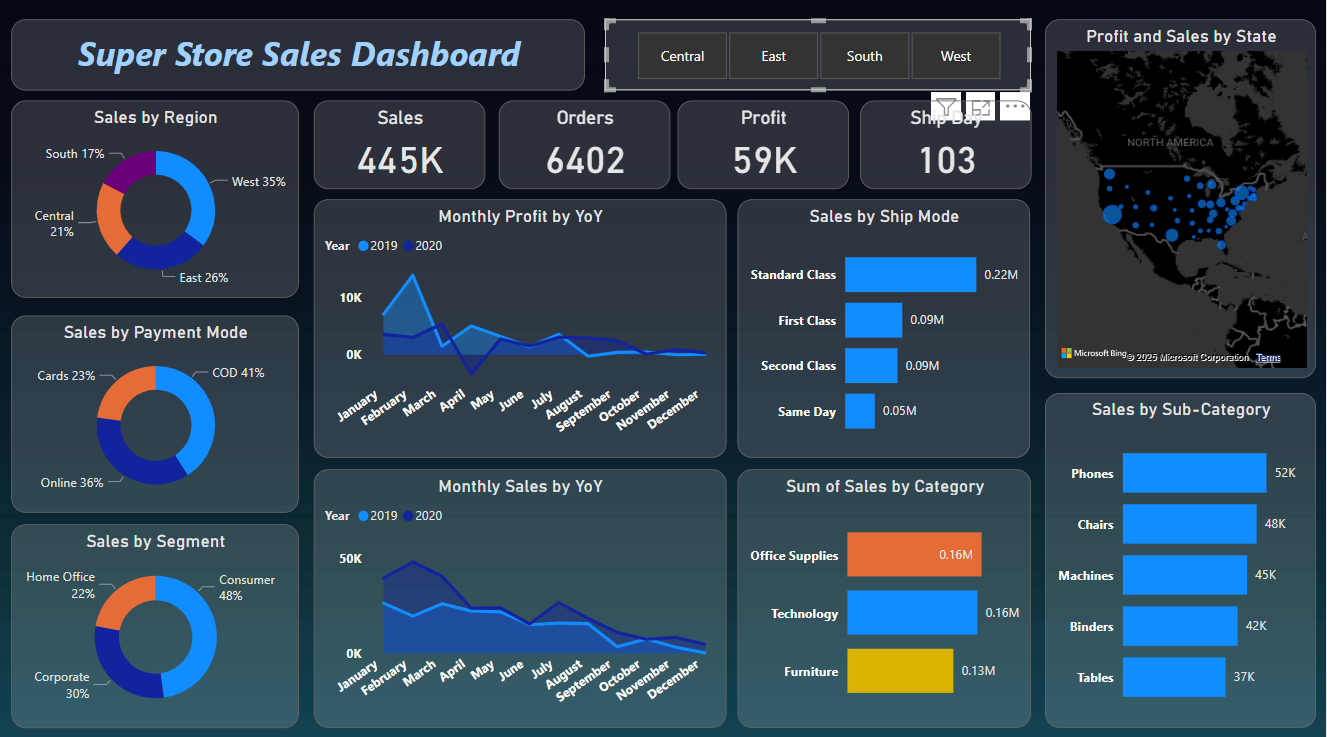

This screenshot's page, from the dashboard's own definition file:
{"tool":"powerbi","page":{"name":"Dashboard","canvas":[1280,720],"ordinal":0},"visuals":[{"type":"clusteredBarChart","fields":{"Category":["SuperStore_Sales_Dataset.Category"],"Y":["Sum(SuperStore_Sales_Dataset.Sales)"]},"box":[711.8,454.8,283.5,249.7],"z":0},{"type":"clusteredBarChart","title":"Sales by Sub-Category","fields":{"Category":["SuperStore_Sales_Dataset.Sub-Category"],"Y":["Sum(SuperStore_Sales_Dataset.Sales)"]},"box":[1008.6,381.2,261.8,323.3],"z":1000},{"type":"clusteredBarChart","title":"Sales by Ship Mode","fields":{"Y":["Sum(SuperStore_Sales_Dataset.Sales)"],"Category":["SuperStore_Sales_Dataset.Ship Mode"]},"box":[711.8,194.2,282.3,249.7],"z":2000},{"type":"areaChart","title":"Monthly Sales by YoY","fields":{"Y":["Sum(SuperStore_Sales_Dataset.Sales)"],"Category":["SuperStore_Sales_Dataset.Order Date.Variation.Date Hierarchy.Month","SuperStore_Sales_Dataset.Order Date.Variation.Date Hierarchy.Day"],"Series":["SuperStore_Sales_Dataset.Order Date.Variation.Date Hierarchy.Year"]},"box":[302.8,454.8,398.1,249.7],"z":3000},{"type":"areaChart","title":"Monthly Profit by YoY","fields":{"Category":["SuperStore_Sales_Dataset.Order Date.Variation.Date Hierarchy.Month","SuperStore_Sales_Dataset.Order Date.Variation.Date Hierarchy.Day"],"Series":["SuperStore_Sales_Dataset.Order Date.Variation.Date Hierarchy.Year"],"Y":["Sum(SuperStore_Sales_Dataset.Profit)"]},"box":[302.8,194.2,398.1,249.7],"z":4000},{"type":"map","title":"Profit and Sales by State","fields":{"Category":["SuperStore_Sales_Dataset.State"],"Size":["Sum(SuperStore_Sales_Dataset.Sales)"]},"box":[1008.6,20.5,261.8,346.2],"z":5000},{"type":"donutChart","title":"Sales by Segment","fields":{"Category":["SuperStore_Sales_Dataset.Segment"],"Y":["Sum(SuperStore_Sales_Dataset.Sales)"]},"box":[10.9,507.9,277.5,196.6],"z":6000},{"type":"donutChart","title":"Sales by Payment Mode","fields":{"Y":["Sum(SuperStore_Sales_Dataset.Sales)"],"Category":["SuperStore_Sales_Dataset.Payment Mode"]},"box":[10.9,306.4,277.5,190.6],"z":7000},{"type":"donutChart","title":"Sales by Region","fields":{"Y":["Sum(SuperStore_Sales_Dataset.Sales)"],"Category":["SuperStore_Sales_Dataset.Region"]},"box":[10.9,98.9,277.5,190.6],"z":8000},{"type":"slicer","fields":{"Values":["SuperStore_Sales_Dataset.Region"]},"box":[583.9,20.5,411.4,68.8],"z":9000},{"type":"textbox","box":[10.9,20.5,553.8,68.8],"z":10000},{"type":"card","title":"Sales","fields":{"Values":["Sum(SuperStore_Sales_Dataset.Sales)"]},"box":[302.8,98.9,165.3,85.7],"z":11000},{"type":"card","title":"Orders","fields":{"Values":["Sum(SuperStore_Sales_Dataset.Quantity)"]},"box":[481.4,98.9,165.3,85.7],"z":12000},{"type":"card","title":"Profit","fields":{"Values":["Sum(SuperStore_Sales_Dataset.Profit)"]},"box":[653.9,98.9,165.3,85.7],"z":13000},{"type":"card","title":"Ship Day","fields":{"Values":["Avg(SuperStore_Sales_Dataset.AvgDelivery)"]},"box":[830,98.9,165.3,85.7],"z":14000}]}

Visuals, with their boxes in screenshot pixels (x1, y1, x2, y2), scaled from the page's 1280x720 canvas onto the 1327x737 screenshot:
clusteredBarChart - SuperStore_Sales_Dataset.Category x Sum(SuperStore_Sales_Dataset.Sales): crop(738, 466, 1032, 721)
"Sales by Sub-Category" clusteredBarChart: crop(1046, 390, 1317, 721)
"Sales by Ship Mode" clusteredBarChart: crop(738, 199, 1031, 454)
"Monthly Sales by YoY" areaChart: crop(314, 466, 727, 721)
"Monthly Profit by YoY" areaChart: crop(314, 199, 727, 454)
"Profit and Sales by State" map: crop(1046, 21, 1317, 375)
"Sales by Segment" donutChart: crop(11, 520, 299, 721)
"Sales by Payment Mode" donutChart: crop(11, 314, 299, 509)
"Sales by Region" donutChart: crop(11, 101, 299, 296)
slicer - SuperStore_Sales_Dataset.Region: crop(605, 21, 1032, 91)
textbox: crop(11, 21, 585, 91)
"Sales" card: crop(314, 101, 485, 189)
"Orders" card: crop(499, 101, 670, 189)
"Profit" card: crop(678, 101, 849, 189)
"Ship Day" card: crop(860, 101, 1032, 189)
